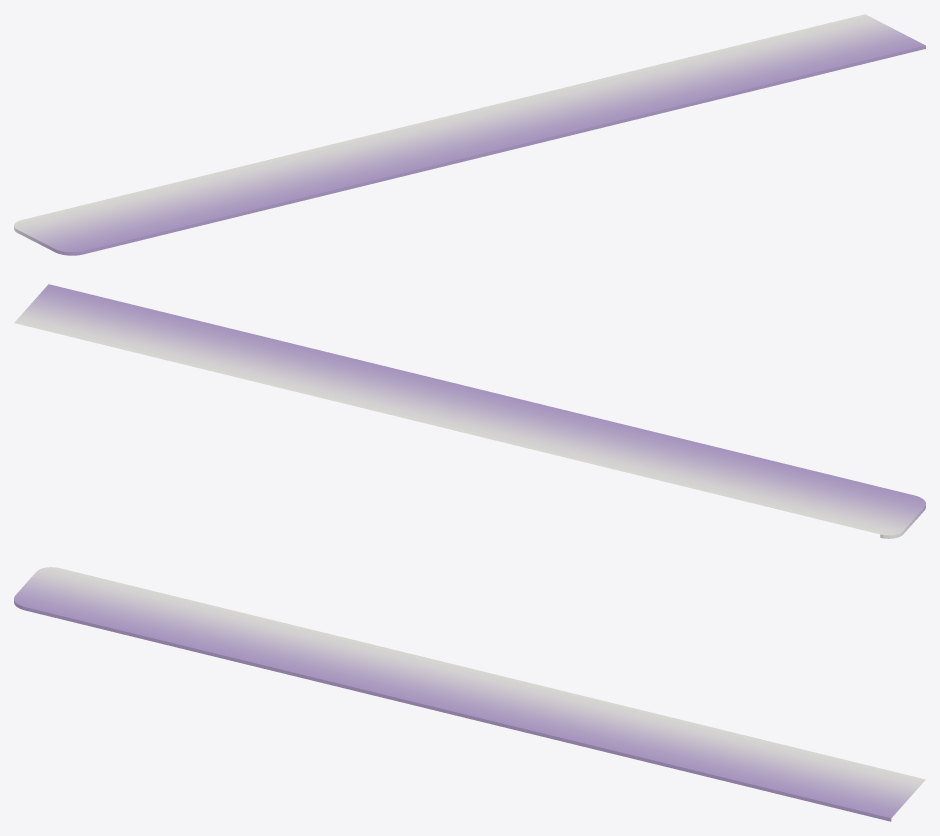
The model's file is table_v2.glb.
The picture shows the model from 3 angles, top to bottom: view 1: azimuth 30°, elevation 25°; view 2: azimuth 150°, elevation 25°; view 3: azimuth 330°, elevation 25°; orthographic projection. The views are drawn at different scales.
Parts seen in each view (by area): view 1: table; view 2: table; view 3: table.
Boxes of the visible parts, bbox=[...] form: table: bbox=[14, 14, 925, 255]; table: bbox=[14, 284, 925, 538]; table: bbox=[14, 567, 925, 821].
Size of the model in its own units: 110 by 0.4 by 10.3.
Materials: 1 (1 with a texture image).
